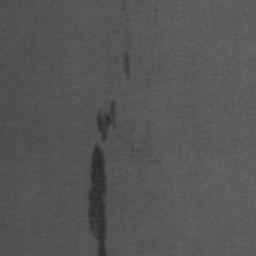Iron scale compression: (89, 145, 107, 256), (97, 99, 117, 143), (123, 53, 131, 81)
